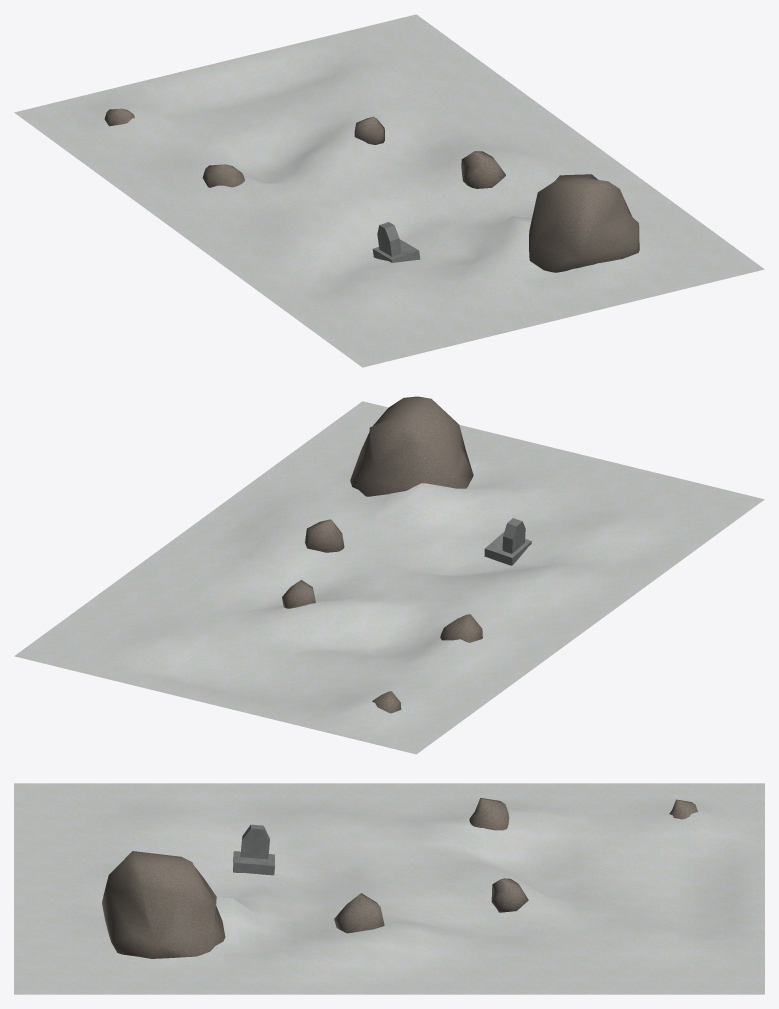
The model's file is bigbox_1.obj.
3 views of the same model, one above another, from view 1: azimuth 30°, elevation 25°; view 2: azimuth 150°, elevation 25°; view 3: azimuth 270°, elevation 25° (orthographic). The views are drawn at different scales.
Parts seen in each view (by area): view 1: bigbox_1_Cube.103; view 2: bigbox_1_Cube.103; view 3: bigbox_1_Cube.103.
Part boxes in pixels (box(x1,y1,x2,y2)): bigbox_1_Cube.103: box(14, 14, 764, 367); bigbox_1_Cube.103: box(14, 396, 764, 754); bigbox_1_Cube.103: box(14, 783, 764, 994).
Bounding box in the file's own units: 1024 × 239 × 1536.
